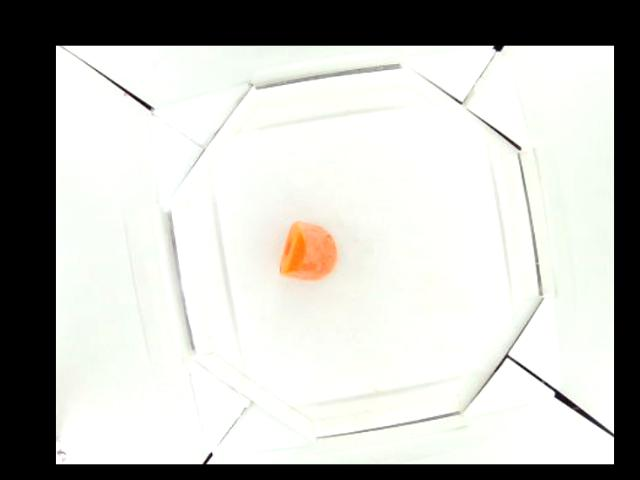Carrot: (281, 222, 337, 280)
